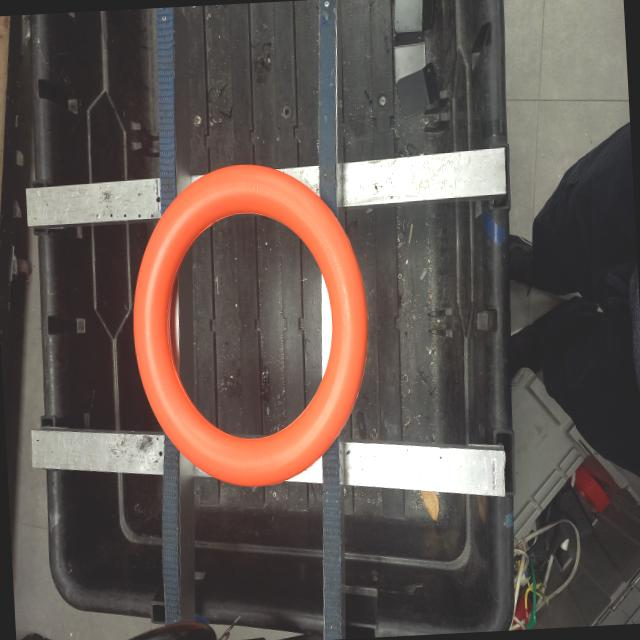note: (119, 162, 394, 497)
